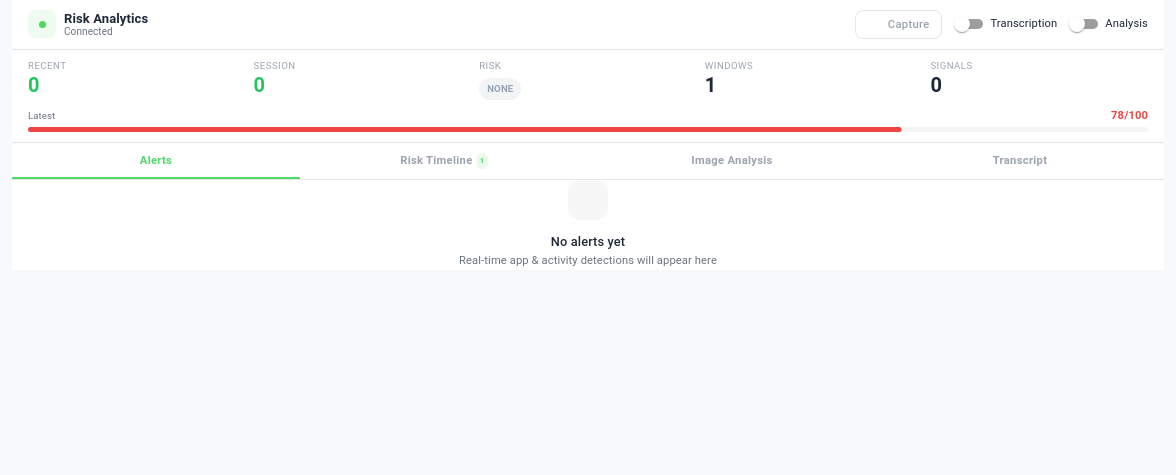
it: AnalyticsPanel › WindowCard displays modality quick badges and expandable modality breakdown
What coordinates should you click on to do the following:
click the tab "Risk Timeline 1"
I would click on:
 (444, 161)
Its box is [300, 143, 588, 179].
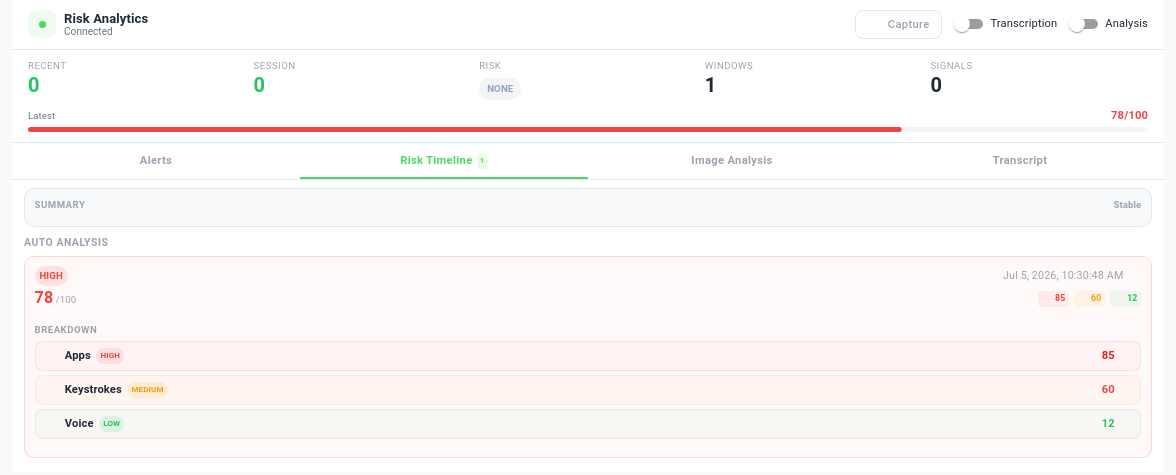
Expected: the text "Breakdown" is shown, [35, 324, 97, 335]
Expected: the text "Apps" is shown, [65, 348, 91, 365]
Expected: the text "Keystrokes" is shown, [65, 382, 122, 399]
